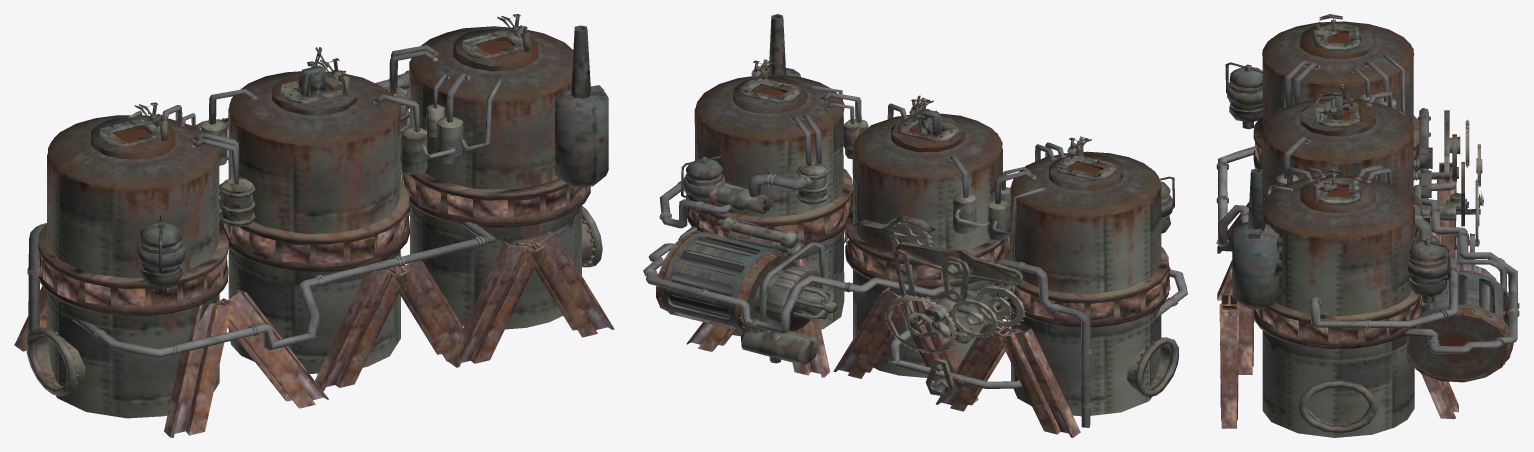
Rendered from steam-engine-east.glb.
The picture shows the model from 3 angles, left to right: view 1: azimuth 30°, elevation 25°; view 2: azimuth 150°, elevation 25°; view 3: azimuth 270°, elevation 25°; orthographic projection. The views are drawn at different scales.
Parts seen in each view (by area): view 1: body; view 2: body, anim_spin_flywheel_ns.001, anim_spin_flywheel_ns.003, anim_spin_flywheel_ns.002, anim_spin_flywheel_ns.004, anim_spin_flywheel_ns; view 3: body, anim_spin_flywheel_ns.001.
Part boxes in pixels (x1=…): body: x1=14, y1=14, x2=614, y2=437; body: x1=643, y1=14, x2=1187, y2=437; anim_spin_flywheel_ns.001: x1=885, y1=295, x2=956, y2=353; anim_spin_flywheel_ns.003: x1=973, y1=285, x2=1025, y2=328; anim_spin_flywheel_ns.002: x1=950, y1=299, x2=998, y2=337; anim_spin_flywheel_ns.004: x1=925, y1=358, x2=955, y2=397; anim_spin_flywheel_ns: x1=890, y1=222, x2=933, y2=246; body: x1=1216, y1=14, x2=1519, y2=437; anim_spin_flywheel_ns.001: x1=1456, y1=179, x2=1483, y2=244.
Size of the model in its own units: 5.83 by 3.02 by 3.29.
Materials: 1 (1 with a texture image).
